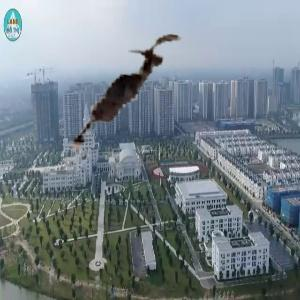drone: (30, 13, 205, 188)
